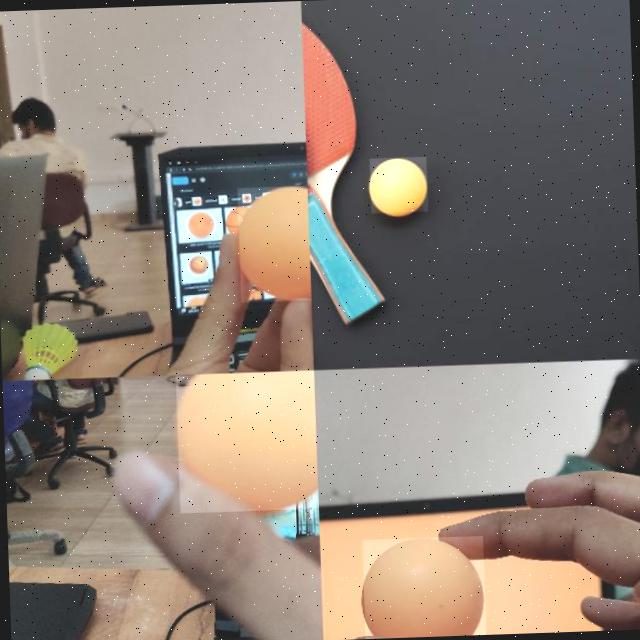ping-pong-ball: (173, 370, 318, 514), (360, 536, 486, 638), (235, 185, 311, 303), (368, 156, 428, 214)
